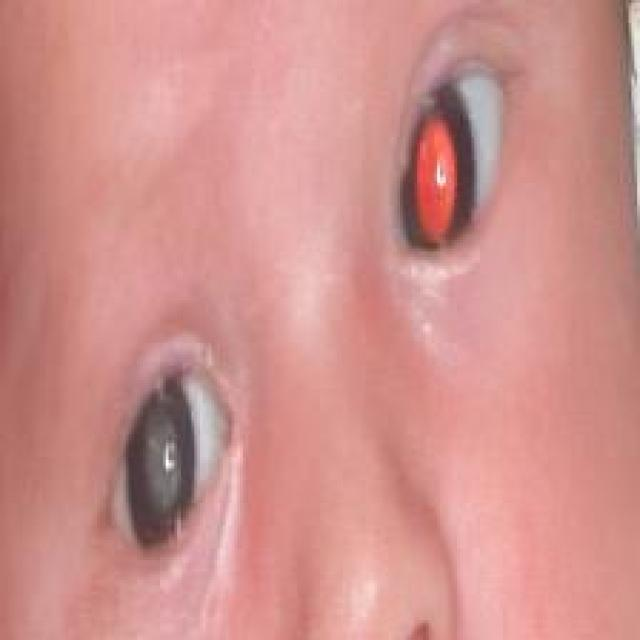reflexo-alterado: (81, 382, 239, 548)
reflexo-normal: (351, 69, 554, 270)
